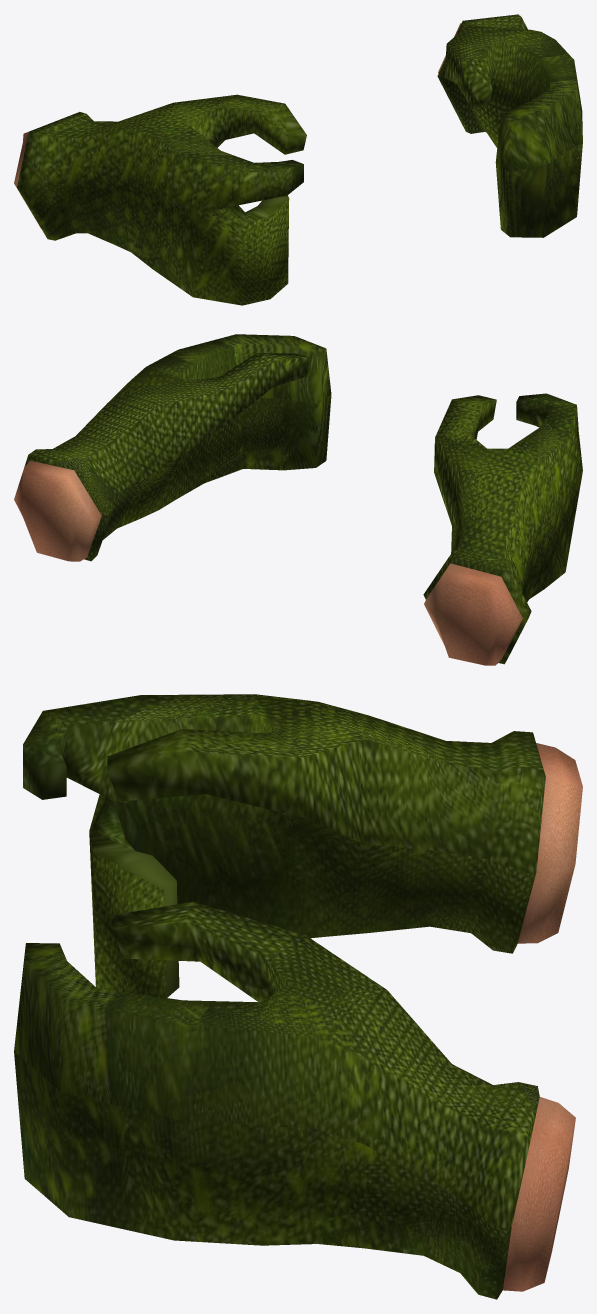
Rendered from Gloves.fbx.
3 renders of one model, top to bottom at view 1: azimuth 30°, elevation 25°; view 2: azimuth 150°, elevation 25°; view 3: azimuth 270°, elevation 25°, orthographic. The views are drawn at different scales.
Parts seen in each view (by area): view 1: RightHand, LeftHand; view 2: LeftHand, RightHand; view 3: LeftHand, RightHand.
Boxes of the visible parts, x1,y1,x2,y2 form: RightHand: (14, 94, 306, 305); LeftHand: (437, 14, 582, 237); LeftHand: (14, 334, 331, 561); RightHand: (423, 393, 582, 665); LeftHand: (14, 901, 575, 1299); RightHand: (23, 694, 582, 997).
Bounding box in the file's own units: 236 × 72.16 × 131.
